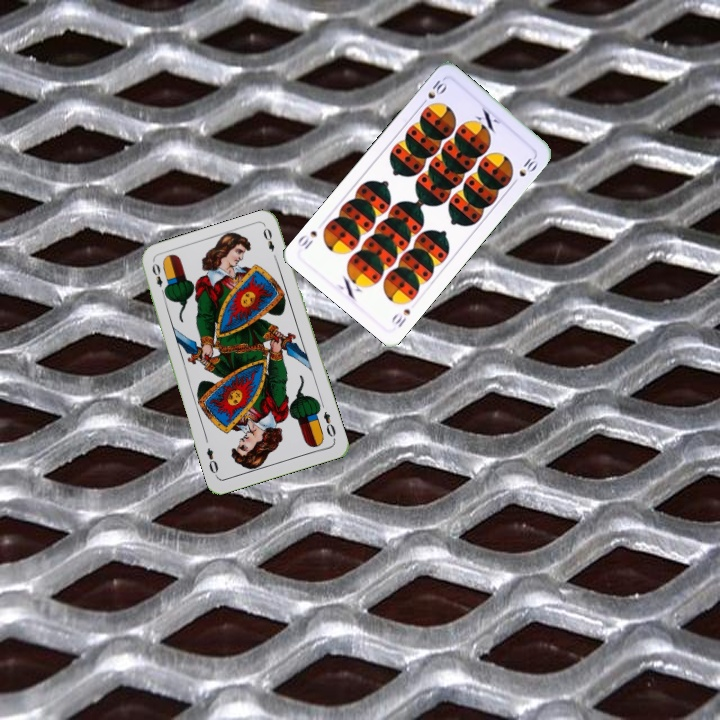EO: (148, 259, 169, 298), (319, 407, 338, 443)
S10: (417, 75, 450, 109), (387, 304, 413, 331)
